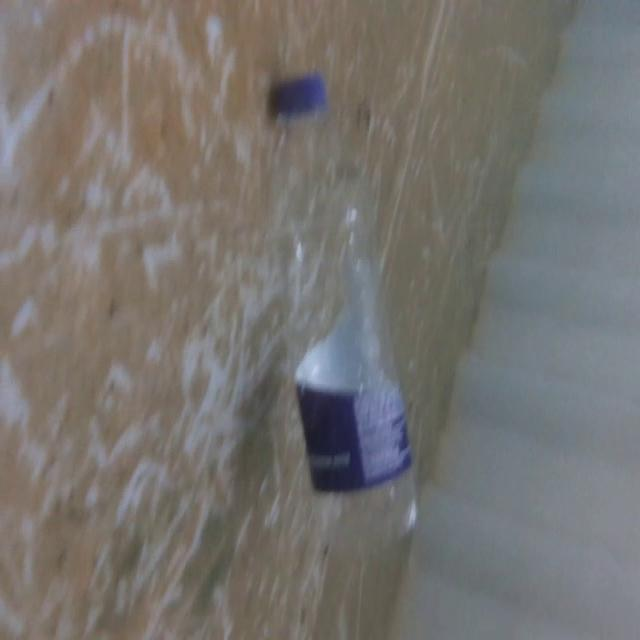plastic bottle: (261, 68, 431, 562)
